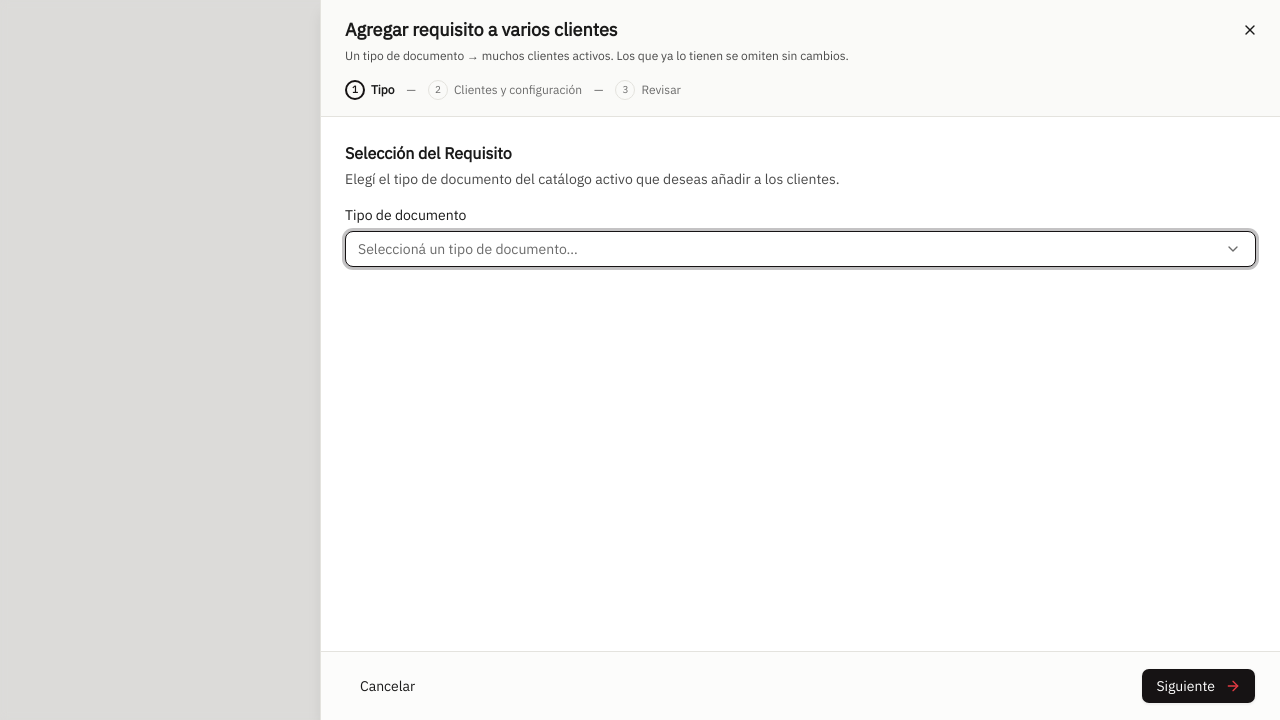
Test: CargaMasivaWizard › renderiza el Paso 1 con catálogo activo y no permite avanzar sin seleccionar
Expected: the heading "Agregar requisito a varios clientes" is shown, [345, 18, 618, 41]
Expected: the text "Tipo" is shown, [371, 82, 394, 97]
Intentar avanzar sin elegir tipo
Click the button "Siguiente" at x=1199, y=686, box [1141, 668, 1256, 704]
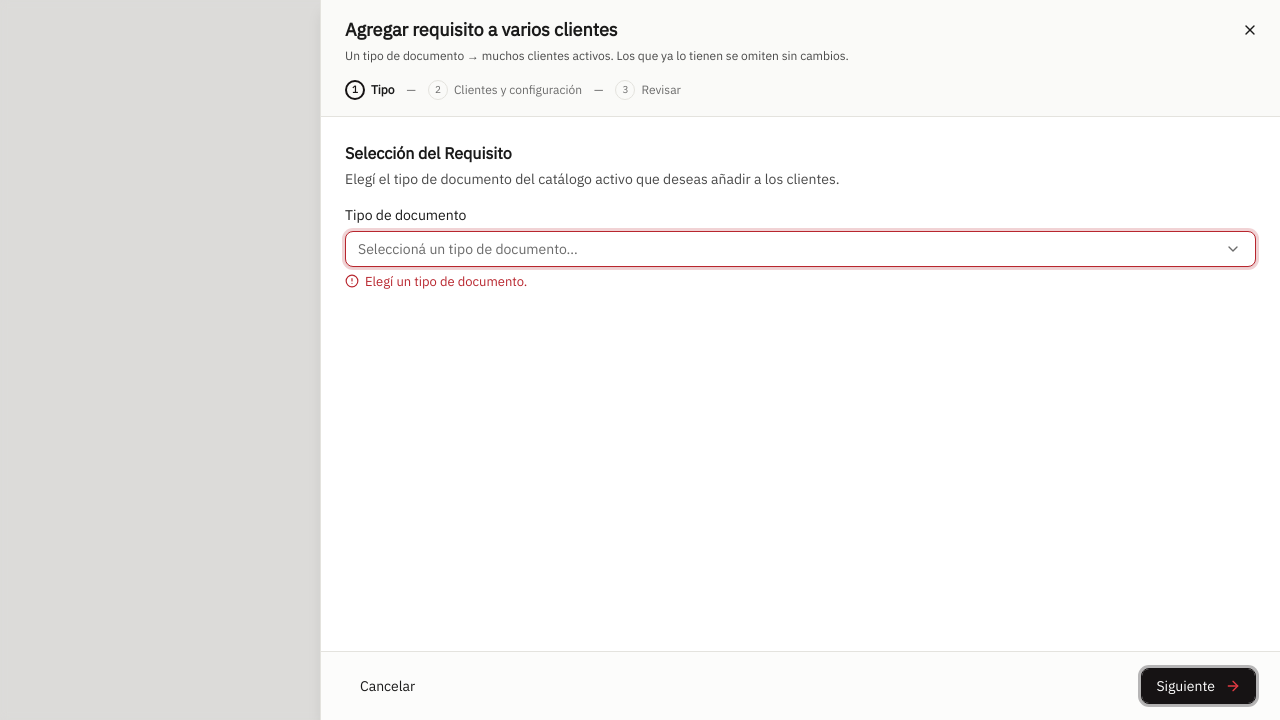
Now the text "Elegí un tipo de documento." is shown, box [345, 273, 527, 290]
